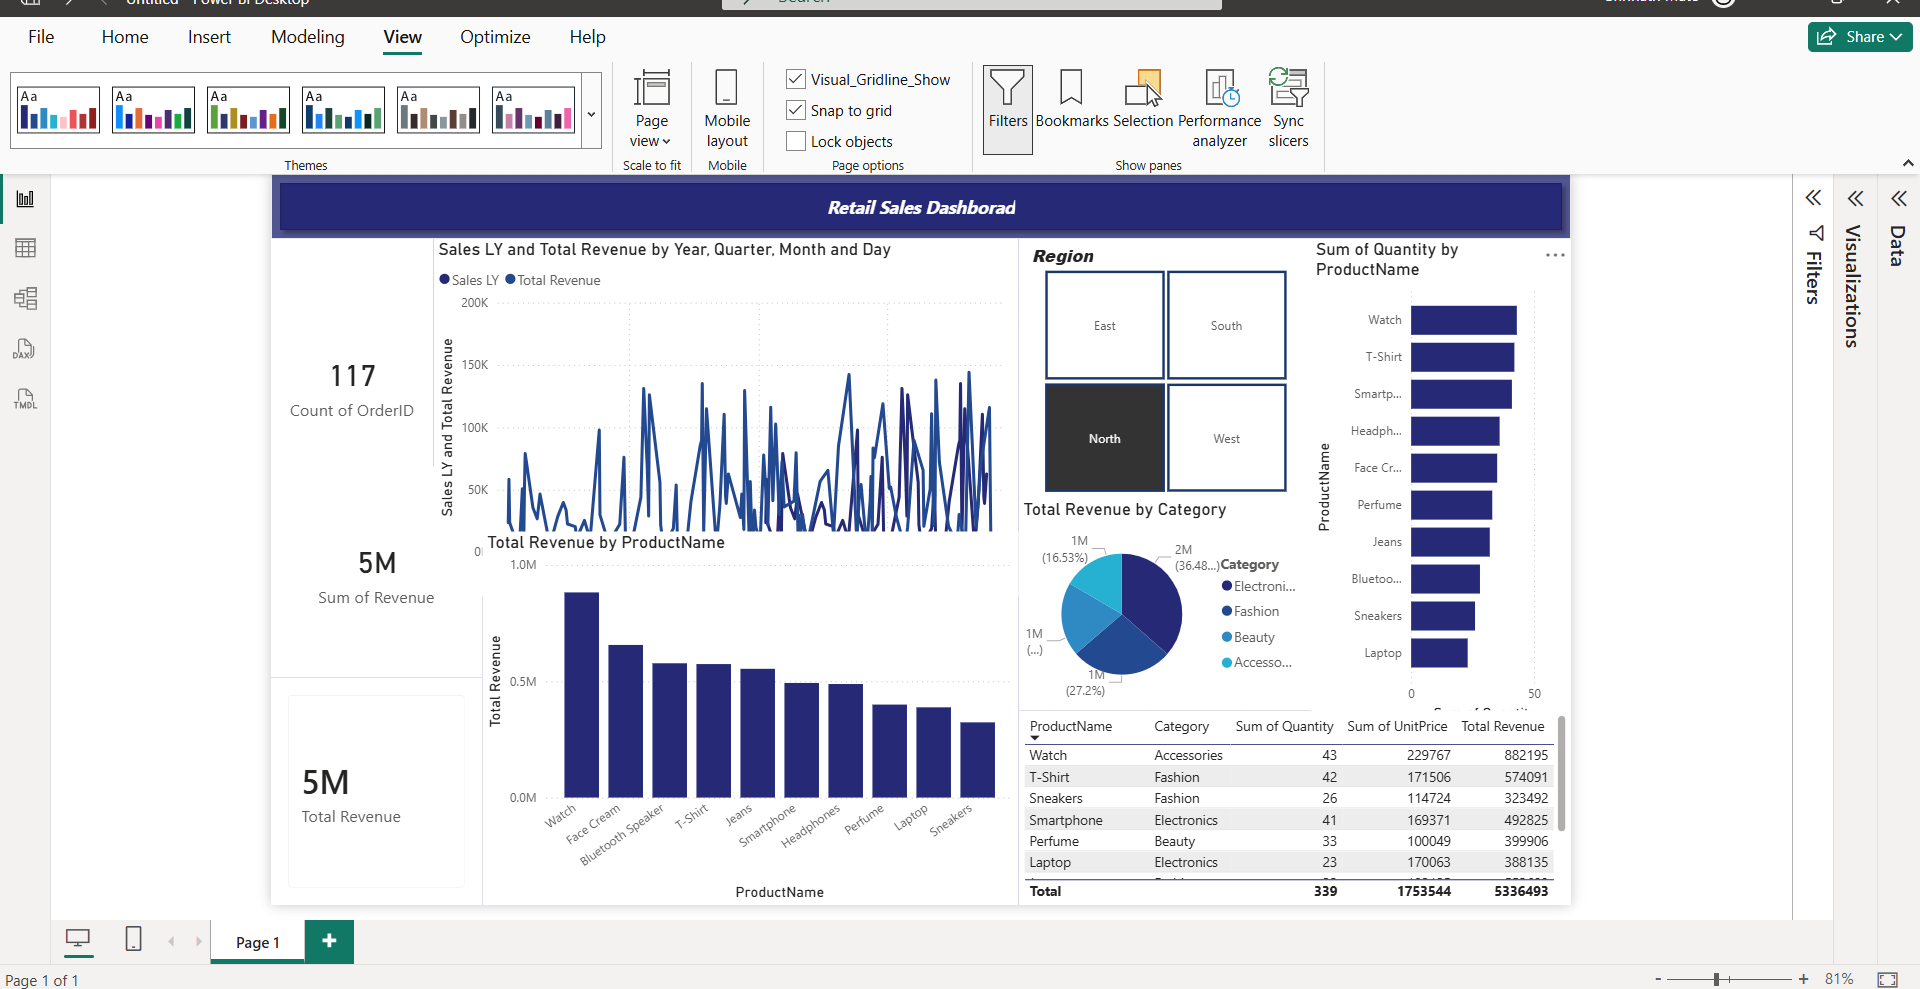

The dashboard page shown, as its layout file describes it:
{"tool":"powerbi","page":{"name":"Page 1","canvas":[1280,720],"ordinal":0},"visuals":[{"type":"card","fields":{"Values":["Count(EcommerceData.OrderID)"]},"box":[0,64,160,288],"z":0},{"type":"card","fields":{"Values":["Sum(EcommerceData.Revenue)"]},"box":[0,288,208,208],"z":1000},{"type":"lineChart","fields":{"Y":["EcommerceData.Sales LY","Date.Total Revenue"],"Category":["Date.Date.Variation.Date Hierarchy.Year","Date.Date.Variation.Date Hierarchy.Quarter","Date.Date.Variation.Date Hierarchy.Month","Date.Date.Variation.Date Hierarchy.Day"]},"box":[160,64,576,352],"z":2000},{"type":"clusteredColumnChart","fields":{"Category":["EcommerceData.ProductName"],"Y":["Date.Total Revenue"]},"box":[208,352,528,368],"z":3000},{"type":"slicer","fields":{"Values":["EcommerceData.Region"]},"box":[736,64,288,256],"z":4000},{"type":"cardVisual","fields":{"Data":["Date.Total Revenue"]},"box":[0,496,208,224],"z":5000},{"type":"pieChart","fields":{"Category":["EcommerceData.Category"],"Y":["Date.Total Revenue"]},"box":[736,320,288,208],"z":6000},{"type":"clusteredBarChart","fields":{"Category":["EcommerceData.ProductName"],"Y":["Sum(EcommerceData.Quantity)"]},"box":[1024,64,256,480],"z":7000},{"type":"tableEx","fields":{"Values":["EcommerceData.ProductName","EcommerceData.Category","Sum(EcommerceData.Quantity)","Sum(EcommerceData.UnitPrice)","Date.Total Revenue"]},"box":[736,528,544,192],"z":8000},{"type":"shape","box":[0,0,1280,64],"z":9000}]}

Visuals, with their boxes on the page's 1280x720 design canvas (x1, y1, x2, y2). These are canvas units, not pixel positions in the 1920x989 screenshot, which may show the page scaled, cropped or inside an application window:
card - Count(EcommerceData.OrderID): crop(0, 64, 160, 352)
card - Sum(EcommerceData.Revenue): crop(0, 288, 208, 496)
lineChart - EcommerceData.Sales LY x Date.Total Revenue: crop(160, 64, 736, 416)
clusteredColumnChart - EcommerceData.ProductName x Date.Total Revenue: crop(208, 352, 736, 720)
slicer - EcommerceData.Region: crop(736, 64, 1024, 320)
cardVisual - Date.Total Revenue: crop(0, 496, 208, 720)
pieChart - EcommerceData.Category x Date.Total Revenue: crop(736, 320, 1024, 528)
clusteredBarChart - EcommerceData.ProductName x Sum(EcommerceData.Quantity): crop(1024, 64, 1280, 544)
tableEx - EcommerceData.ProductName x EcommerceData.Category: crop(736, 528, 1280, 720)
shape: crop(0, 0, 1280, 64)
